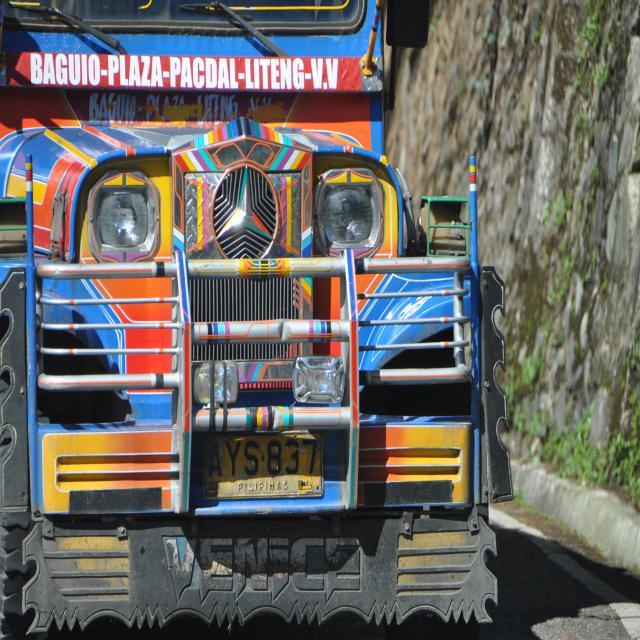LicensePlate: (190, 423, 339, 509)
